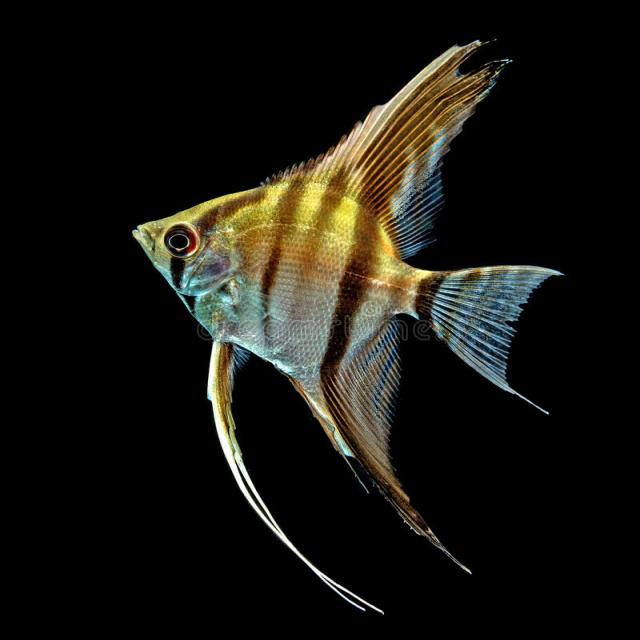AngelFish: (130, 41, 544, 592)
